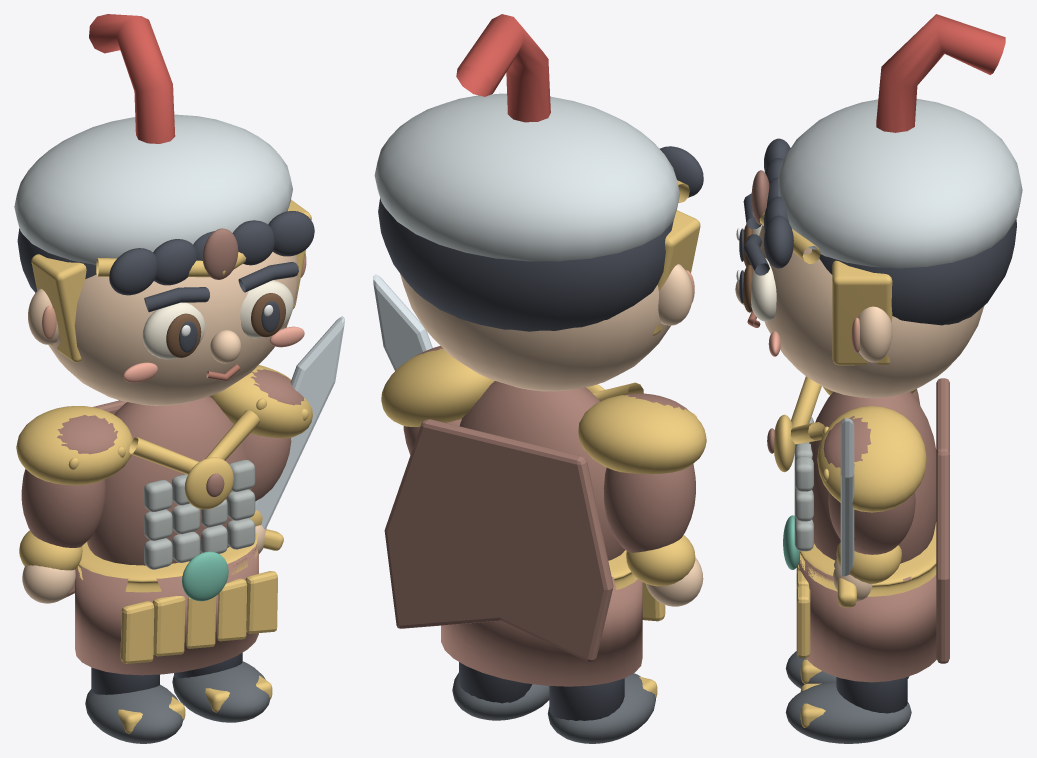
Rendered from huaxiong.fbx.
The picture shows the model from 3 angles, left to right: view 1: azimuth 30°, elevation 25°; view 2: azimuth 150°, elevation 25°; view 3: azimuth 270°, elevation 25°; orthographic projection. The views are drawn at different scales.
Parts seen in each view (by area): view 1: helmet, face, body, robe_skirt, plume, shoulder_gold.001, sleeve.001, dao_blade, boot, boot.001, shoulder_gold, cheek_guard (+43 smaller); view 2: cape, helmet, hair_mass, face, robe_skirt, shoulder_gold.001, body, plume, sleeve.001, shoulder_gold, boot, dao_blade (+10 smaller); view 3: helmet, face, robe_skirt, hair_mass, shoulder_gold, plume, body, boot.001, cape, cheek_guard.001, sleeve, belt (+20 smaller).
Part boxes in pixels (left/top/right/bottom): helmet: left=14, top=114, right=292, bottom=265; face: left=35, top=252, right=298, bottom=405; body: left=87, top=396, right=251, bottom=565; robe_skirt: left=75, top=542, right=258, bottom=675; plume: left=89, top=14, right=175, bottom=143; shoulder_gold.001: left=16, top=406, right=132, bottom=485; sleeve.001: left=21, top=469, right=105, bottom=547; dao_blade: left=255, top=316, right=344, bottom=529; boot: left=85, top=684, right=182, bottom=743; boot.001: left=172, top=661, right=269, bottom=722; shoulder_gold: left=210, top=365, right=312, bottom=438; cheek_guard: left=31, top=254, right=86, bottom=362; cape: left=384, top=419, right=613, bottom=661; helmet: left=374, top=93, right=679, bottom=261; hair_mass: left=378, top=198, right=673, bottom=331; face: left=400, top=273, right=670, bottom=391; robe_skirt: left=441, top=576, right=642, bottom=686; shoulder_gold.001: left=578, top=394, right=706, bottom=474; body: left=459, top=381, right=624, bottom=560; plume: left=456, top=14, right=550, bottom=122; sleeve.001: left=603, top=463, right=695, bottom=552; shoulder_gold: left=381, top=348, right=494, bottom=426; boot: left=547, top=673, right=655, bottom=743; dao_blade: left=373, top=274, right=432, bottom=370; helmet: left=778, top=99, right=1022, bottom=268; face: left=759, top=225, right=984, bottom=398; robe_skirt: left=798, top=552, right=936, bottom=682; hair_mass: left=819, top=219, right=1016, bottom=325; shoulder_gold: left=817, top=406, right=926, bottom=512; plume: left=876, top=14, right=1005, bottom=132; body: left=809, top=392, right=936, bottom=563; boot.001: left=785, top=681, right=911, bottom=743; cape: left=936, top=378, right=949, bottom=663; cheek_guard.001: left=832, top=260, right=892, bottom=365; sleeve: left=828, top=492, right=915, bottom=554; belt: left=799, top=522, right=936, bottom=596.
Size of the model in its own units: 1.35 by 2.81 by 1.05.
